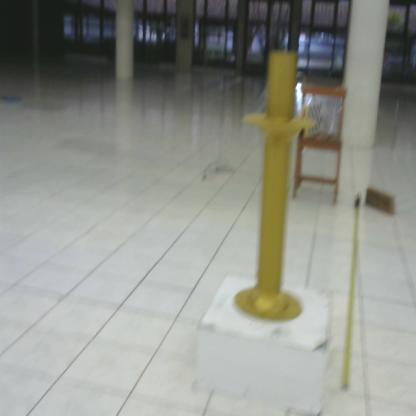pole: (226, 41, 321, 329)
